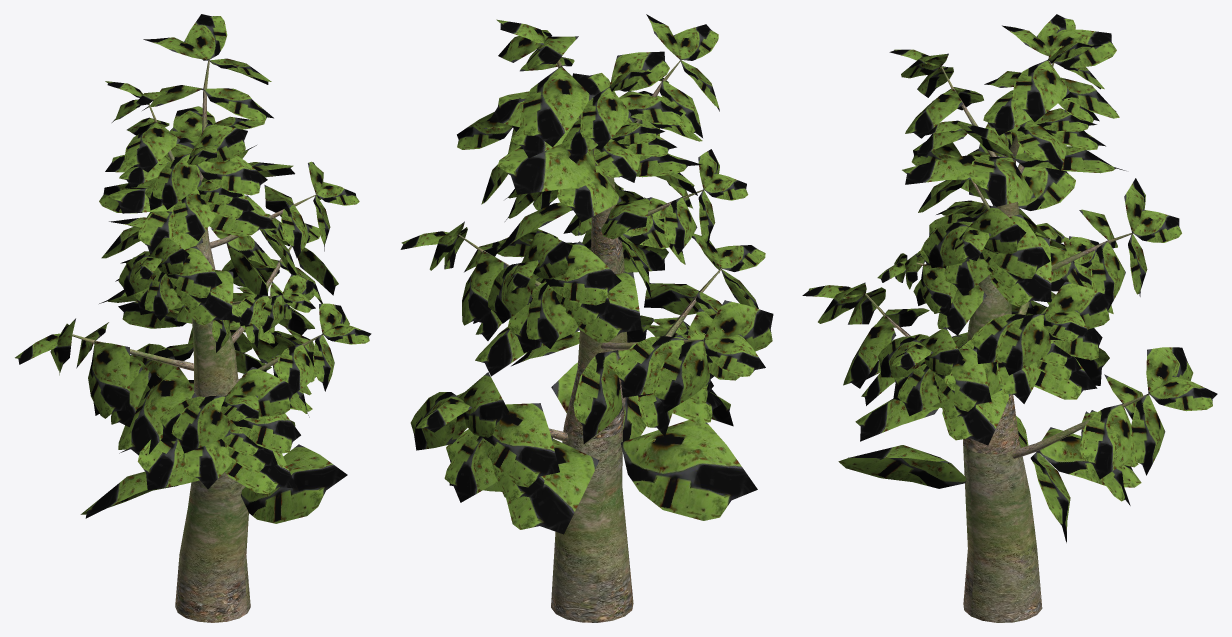
Rendered from hrast_zeleni.glb.
The picture shows the model from 3 angles, left to right: view 1: azimuth 30°, elevation 25°; view 2: azimuth 150°, elevation 25°; view 3: azimuth 270°, elevation 25°; orthographic projection. The views are drawn at different scales.
Parts seen in each view (by area): view 1: Oak_Green_1_aiStandardSurface4_0, Oak_Green_1_aiStandardSurface2_0; view 2: Oak_Green_1_aiStandardSurface4_0, Oak_Green_1_aiStandardSurface2_0; view 3: Oak_Green_1_aiStandardSurface4_0, Oak_Green_1_aiStandardSurface2_0.
Boxes of the visible parts, x1,y1,x2,y2 form: Oak_Green_1_aiStandardSurface4_0: (15, 14, 371, 523); Oak_Green_1_aiStandardSurface2_0: (72, 59, 323, 622); Oak_Green_1_aiStandardSurface4_0: (400, 14, 773, 534); Oak_Green_1_aiStandardSurface2_0: (457, 59, 722, 622); Oak_Green_1_aiStandardSurface4_0: (802, 14, 1217, 542); Oak_Green_1_aiStandardSurface2_0: (865, 59, 1149, 622).
Bounding box in the file's own units: 392 × 651 × 423.
Materials: 2 (2 with a texture image).
